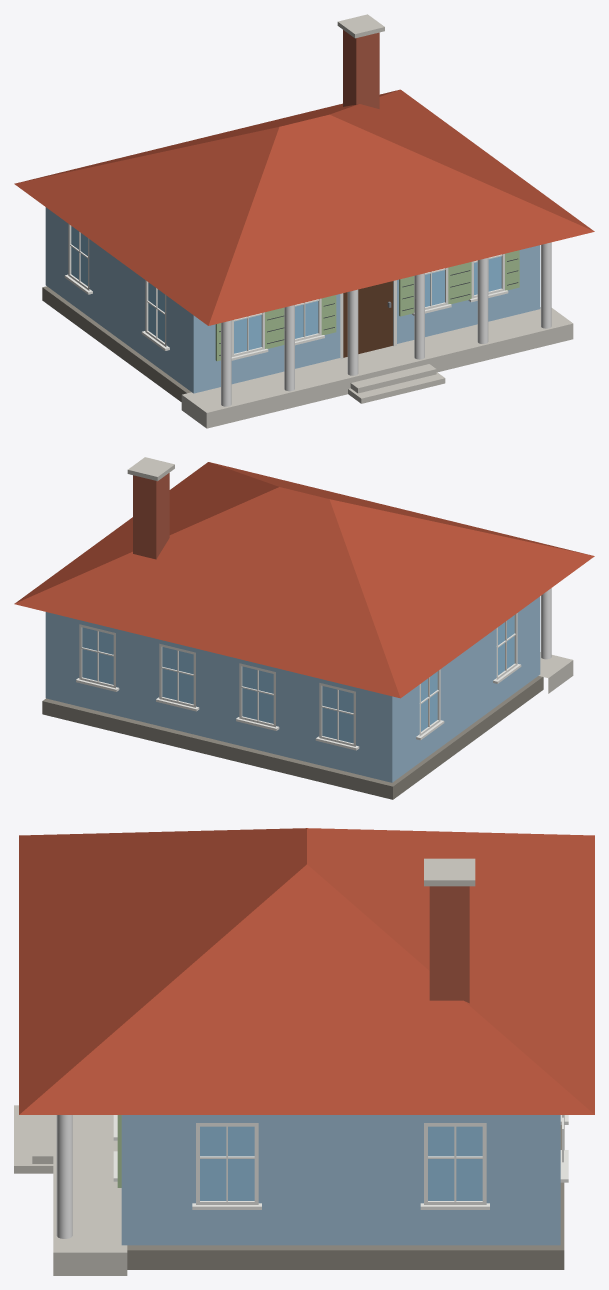
The model's file is casa-colonial.glb.
3 renders of one model, top to bottom at view 1: azimuth 30°, elevation 25°; view 2: azimuth 150°, elevation 25°; view 3: azimuth 270°, elevation 25°, orthographic. The views are drawn at different scales.
Parts seen in each view (by area): view 1: Telhado, Detalhes, Paredes, Molduras, Vidro, Portas, VidroLuz; view 2: Telhado, Paredes, Molduras, Vidro, VidroLuz, Detalhes; view 3: Telhado, Paredes, Detalhes, VidroLuz, Molduras.
Part boxes in pixels (left/top/right/bottom): Telhado: left=14, top=89, right=594, bottom=325; Detalhes: left=181, top=242, right=573, bottom=428; Paredes: left=42, top=14, right=540, bottom=401; Molduras: left=64, top=224, right=508, bottom=360; Vidro: left=71, top=226, right=501, bottom=343; Portas: left=343, top=281, right=392, bottom=357; VidroLuz: left=234, top=315, right=261, bottom=353; Telhado: left=14, top=462, right=594, bottom=698; Paredes: left=42, top=457, right=543, bottom=799; Molduras: left=76, top=613, right=521, bottom=750; Vidro: left=162, top=615, right=514, bottom=743; VidroLuz: left=82, top=627, right=273, bottom=723; Detalhes: left=538, top=588, right=573, bottom=693; Telhado: left=19, top=828, right=594, bottom=1114; Paredes: left=121, top=858, right=564, bottom=1269; Detalhes: left=14, top=1105, right=127, bottom=1275; VidroLuz: left=200, top=1126, right=482, bottom=1200; Molduras: left=113, top=1115, right=568, bottom=1209.
Bounding box in the file's own units: 11.6 × 6.77 × 10.19.
